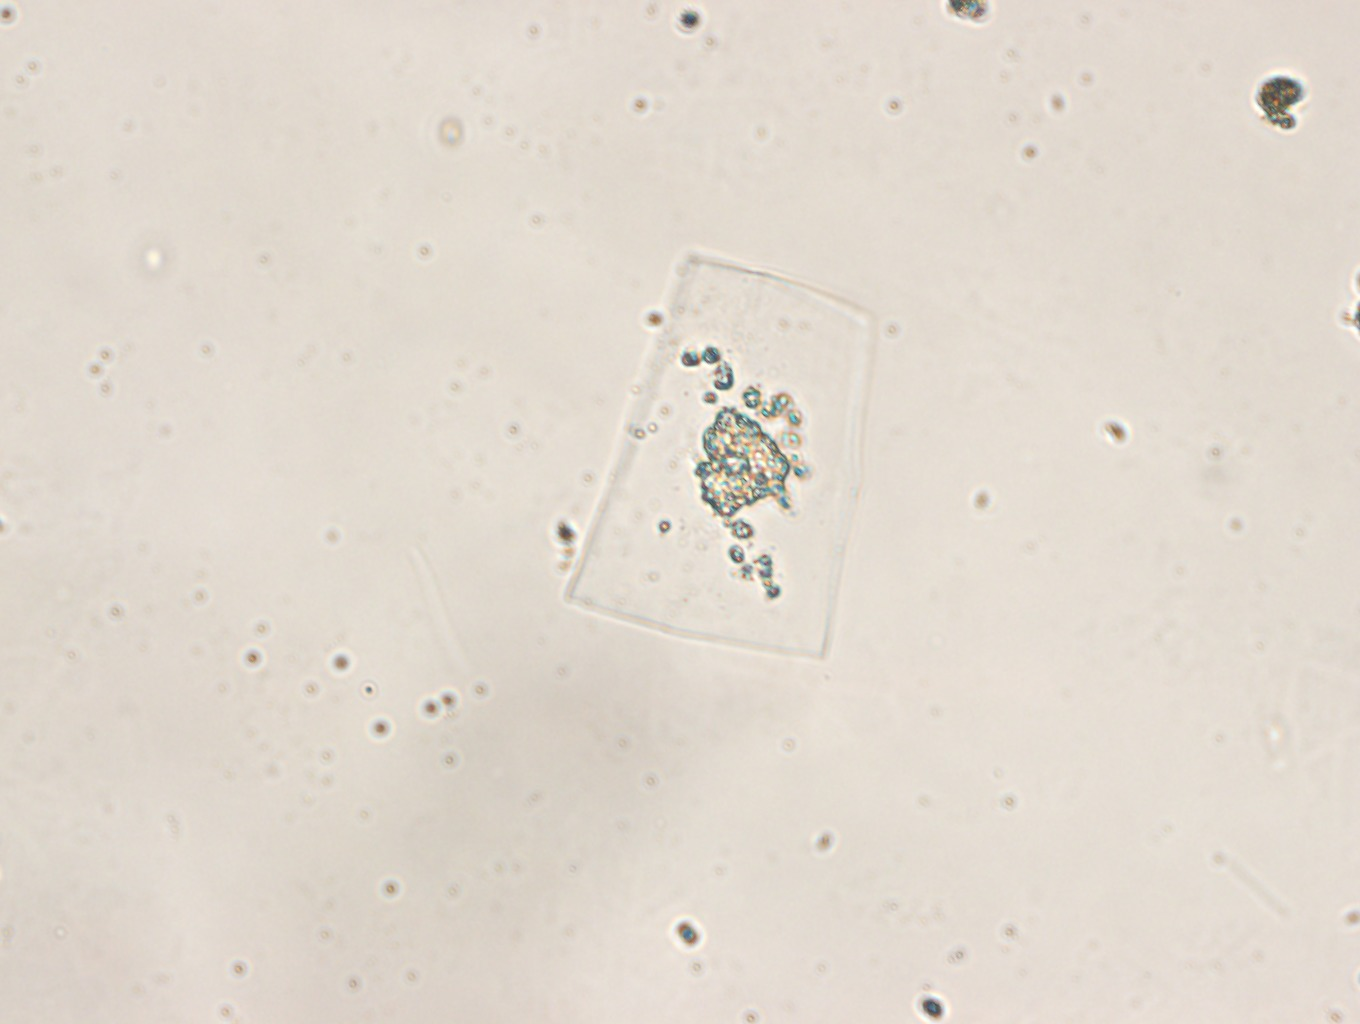helicotheca: (561, 253, 876, 662)
